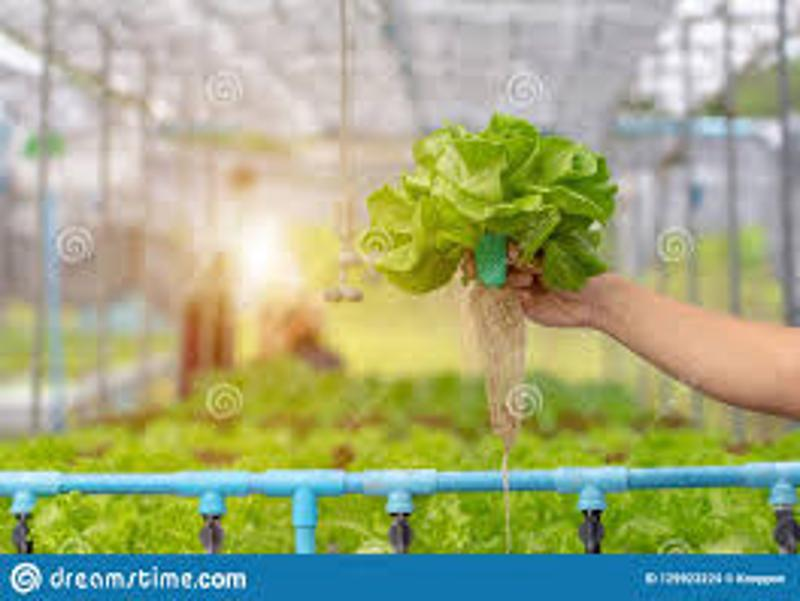cabbage: (367, 111, 612, 293)
